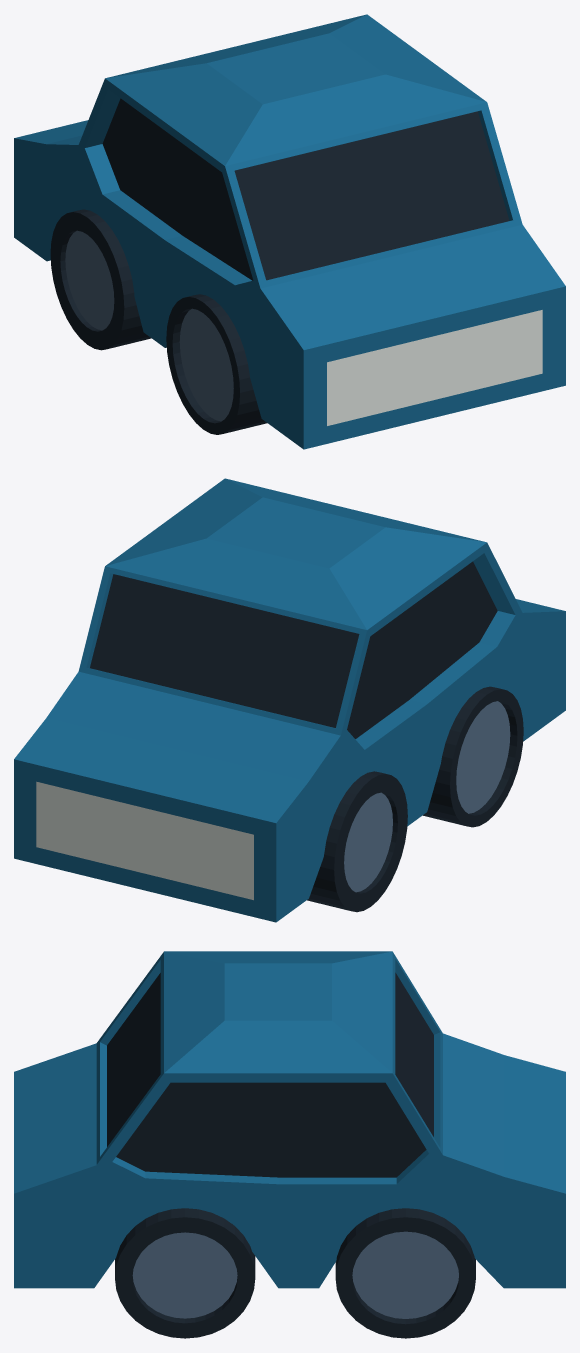
File: car.fbx
3 renders of one model, top to bottom at view 1: azimuth 30°, elevation 25°; view 2: azimuth 150°, elevation 25°; view 3: azimuth 270°, elevation 25°, orthographic. The views are drawn at different scales.
Parts seen in each view (by area): view 1: Cube, wheels.002, wheels.003; view 2: Cube, wheels.003, wheels.002; view 3: Cube, wheels.001, wheels.
Boxes of the visible parts, <box> form: Cube: <box>14,14,565,449</box>; wheels.002: <box>166,294,267,434</box>; wheels.003: <box>50,209,151,350</box>; Cube: <box>14,478,565,922</box>; wheels.003: <box>307,771,407,912</box>; wheels.002: <box>423,686,523,827</box>; Cube: <box>14,951,565,1288</box>; wheels.001: <box>115,1208,255,1338</box>; wheels: <box>335,1208,475,1338</box>.
Bounding box in the file's own units: 241 × 229 × 414.
